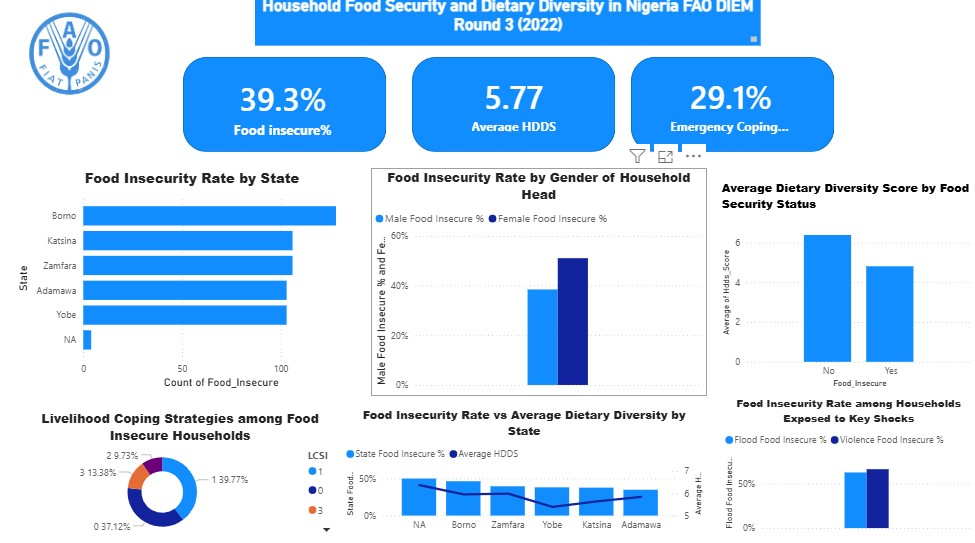

This screenshot's page, from the dashboard's own definition file:
{"tool":"powerbi","page":{"name":"Page 1","canvas":[1280,720],"ordinal":0},"visuals":[{"type":"shape","box":[241.9,80.6,266.4,134.1],"z":0,"group":"g1"},{"type":"group","id":"g1","title":"Group 1","box":[241.9,80.6,852.5,133.9],"z":1000},{"type":"image","box":[0,0,187.9,161.5],"z":2000},{"type":"cardVisual","fields":{"Data":["Measure Table.Food insecure%"]},"box":[279.4,66.2,188.6,159.8],"z":3000},{"type":"shape","box":[542.2,80.6,266.4,134.1],"z":3000,"group":"g1"},{"type":"shape","box":[828.3,80.6,266.4,134.1],"z":4000,"group":"g1"},{"type":"cardVisual","fields":{"Data":["Measure Table.Average HDDS"]},"box":[580.9,91.3,188.6,112.3],"z":5000,"group":"g1"},{"type":"clusteredBarChart","title":"Food Insecurity Rate by State","fields":{"Category":["ANALYSIS_DATA.State"],"Y":["CountNonNull(ANALYSIS_DATA.Food_Insecure)"]},"box":[19.7,226.2,468.9,293.4],"z":5000},{"type":"cardVisual","fields":{"Data":["Measure Table.Emergency Coping %"]},"box":[851.6,80.6,217.4,133.9],"z":6000,"group":"g1"},{"type":"clusteredColumnChart","title":"Food Insecurity Rate by Gender of Household Head","fields":{"Y":["Measure Table.Male Food Insecure %","Measure Table.Female Food Insecure %"]},"box":[488.5,226.2,439.3,298.4],"z":6000},{"type":"clusteredColumnChart","title":"Average Dietary Diversity Score by Food Security Status","fields":{"Category":["ANALYSIS_DATA.Food_Insecure"],"Y":["Avg(ANALYSIS_DATA.Hdds_Score)"]},"box":[942.6,242.6,337.7,277],"z":7000},{"type":"donutChart","title":"Livelihood Coping Strategies among Food Insecure Households","fields":{"Category":["ANALYSIS_DATA.LCSI"],"Y":["CountNonNull(ANALYSIS_DATA.Food_Insecure)"]},"box":[20.2,541.4,437.8,171.4],"z":8000},{"type":"textbox","title":"Household Food Security and Dietary Diversity in Nigeria FAO DIEM Round 3 (2022)","box":[337.7,0,662.3,65.6],"z":9001},{"type":"lineClusteredColumnComboChart","title":"Food Insecurity Rate vs Average Dietary Diversity by State","fields":{"Category":["ANALYSIS_DATA.State"],"Y":["Measure Table.State Food Insecure %"],"Y2":["Measure Table.Average HDDS"]},"box":[450.8,539.3,477,172.1],"z":9002},{"type":"clusteredColumnChart","title":"Food Insecurity Rate among Households Exposed to Key Shocks","fields":{"Y":["Measure Table.Flood Food Insecure %","Measure Table.Violence Food Insecure %"]},"box":[945.9,524.6,334.4,186.9],"z":9003}]}

Visuals, with their boxes in screenshot pixels (x1, y1, x2, y2), scaled from the page's 1280x720 canvas onto the 975x543 screenshot:
shape: box(184, 61, 387, 162)
"Group 1" group: box(184, 61, 834, 162)
image: box(0, 0, 143, 122)
cardVisual - Measure Table.Food insecure%: box(213, 50, 356, 170)
shape: box(413, 61, 616, 162)
shape: box(631, 61, 834, 162)
cardVisual - Measure Table.Average HDDS: box(442, 69, 586, 154)
"Food Insecurity Rate by State" clusteredBarChart: box(15, 171, 372, 392)
cardVisual - Measure Table.Emergency Coping %: box(649, 61, 814, 162)
"Food Insecurity Rate by Gender of Household Head" clusteredColumnChart: box(372, 171, 707, 396)
"Average Dietary Diversity Score by Food Security Status" clusteredColumnChart: box(718, 183, 974, 392)
"Livelihood Coping Strategies among Food Insecure Households" donutChart: box(15, 408, 349, 538)
"Household Food Security and Dietary Diversity in Nigeria FAO DIEM Round 3 (2022)" textbox: box(257, 0, 762, 49)
"Food Insecurity Rate vs Average Dietary Diversity by State" lineClusteredColumnComboChart: box(343, 407, 707, 537)
"Food Insecurity Rate among Households Exposed to Key Shocks" clusteredColumnChart: box(721, 396, 974, 537)
